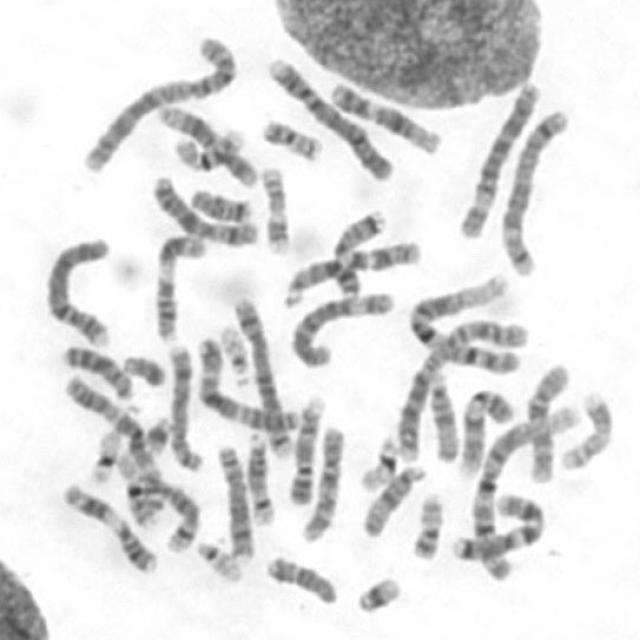A1: (458, 393, 586, 572), (402, 266, 524, 376)
A2: (76, 27, 240, 174), (389, 308, 530, 463)
A3: (56, 366, 168, 528), (188, 329, 302, 434)
B4: (260, 46, 398, 182), (38, 227, 113, 348)
B5: (491, 98, 573, 278), (222, 286, 294, 460)
C10: (519, 354, 574, 484), (294, 417, 348, 544)
C11: (56, 475, 159, 575), (147, 226, 209, 343)
C12: (322, 72, 444, 156), (151, 94, 259, 188)
C6: (451, 71, 544, 242), (283, 282, 396, 369)
C7: (444, 486, 548, 564), (326, 202, 424, 275)
C8: (160, 336, 205, 473), (209, 435, 257, 562)
C9: (449, 379, 516, 478), (282, 388, 328, 508)
D13: (54, 338, 137, 403), (275, 249, 364, 309)
D14: (147, 475, 200, 559), (239, 424, 278, 527)
D15: (355, 456, 428, 540), (422, 366, 462, 464)
E16: (110, 444, 166, 526), (166, 119, 248, 172)
E17: (553, 384, 615, 472), (254, 157, 294, 256)
E18: (258, 547, 340, 607), (184, 179, 254, 224)
F19: (351, 428, 401, 493), (82, 418, 125, 486)
F20: (254, 109, 324, 163), (404, 484, 447, 562)
G21: (348, 568, 403, 616), (136, 407, 174, 456)
G22: (212, 314, 255, 384), (189, 532, 245, 584)
X: (145, 167, 259, 249)
Y: (115, 346, 168, 387)
